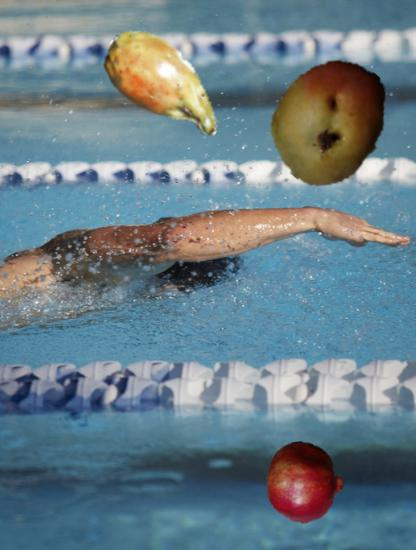Cactus: (96, 16, 235, 155)
Papaya: (264, 55, 396, 187)
Pomegranate: (264, 441, 347, 524)
